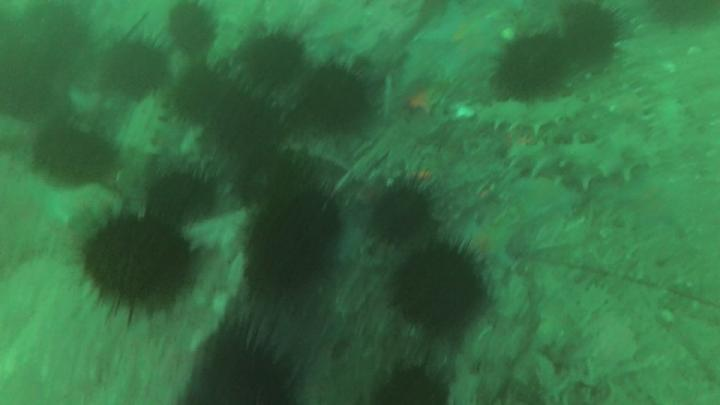echinus: (249, 195, 343, 303), (81, 223, 186, 313), (398, 246, 483, 333), (193, 341, 286, 405), (210, 91, 291, 155), (501, 35, 572, 103), (36, 134, 116, 187), (253, 153, 329, 204), (99, 43, 165, 100), (305, 69, 369, 126), (564, 1, 619, 67), (372, 186, 431, 245), (243, 34, 301, 87), (168, 2, 221, 57), (175, 69, 227, 124), (374, 367, 449, 405), (151, 173, 212, 216)
holothurian: (510, 141, 625, 191), (475, 100, 587, 133)
